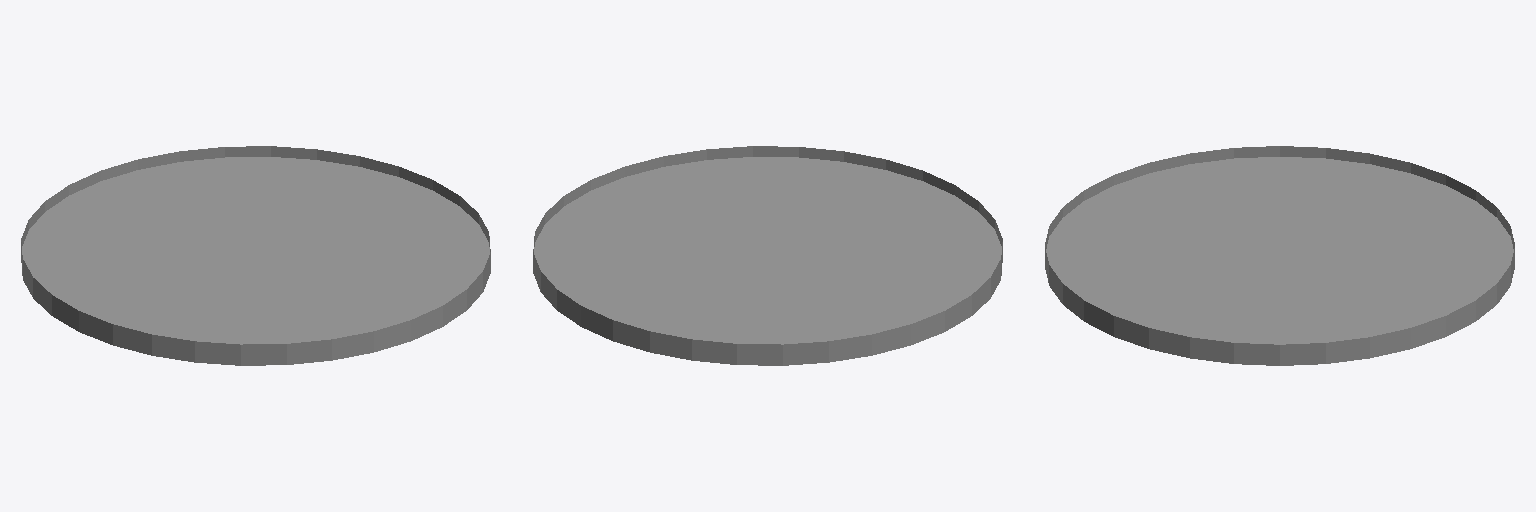
File: PetriDish.obj
The picture shows the model from 3 angles: view 1: azimuth 30°, elevation 25°; view 2: azimuth 150°, elevation 25°; view 3: azimuth 270°, elevation 25°; orthographic projection.
Parts seen in each view (by area): view 1: PetriDish_Cylinder.001; view 2: PetriDish_Cylinder.001; view 3: PetriDish_Cylinder.001.
Part boxes in pixels (x1,y1,x2,y2): PetriDish_Cylinder.001: (21, 146, 490, 365); PetriDish_Cylinder.001: (533, 146, 1002, 365); PetriDish_Cylinder.001: (1045, 146, 1514, 365).
Bounding box in the file's own units: 2 × 0.1 × 2.